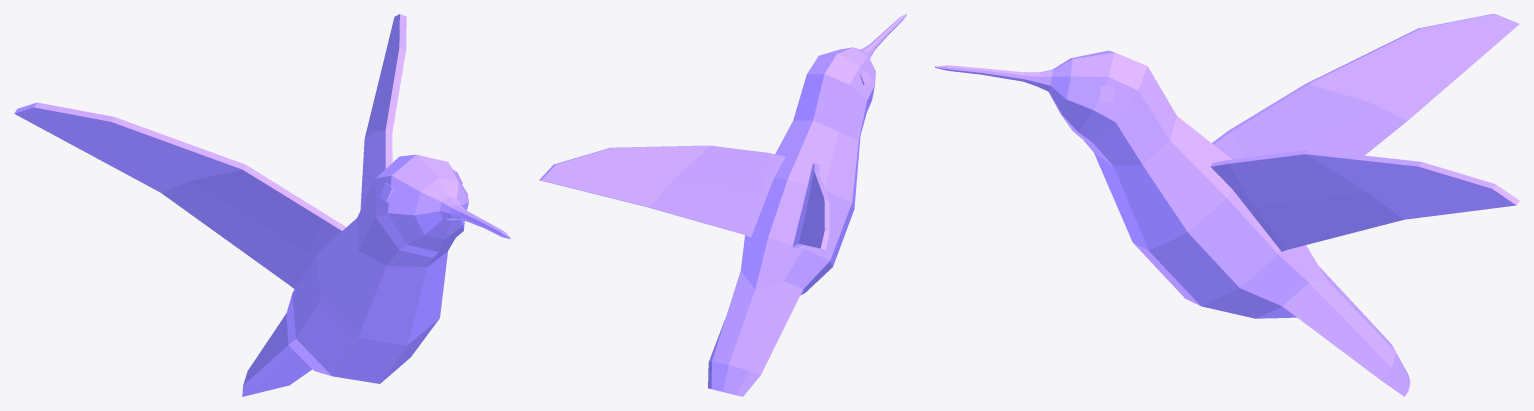
File: opt1.glb
The picture shows the model from 3 angles, left to right: view 1: azimuth 30°, elevation 25°; view 2: azimuth 150°, elevation 25°; view 3: azimuth 270°, elevation 25°; orthographic projection. The views are drawn at different scales.
Bounding box in the file's own units: 91.67 × 78.54 × 125.
